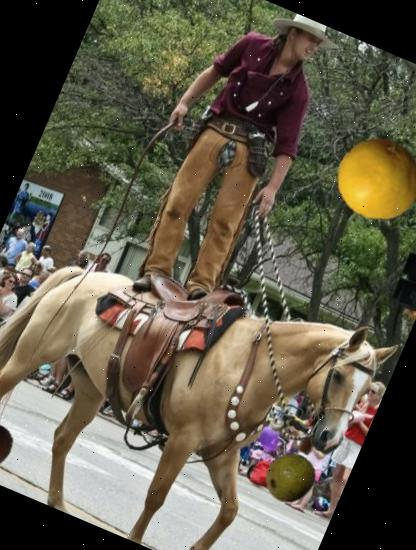Grapefruit: (324, 124, 416, 235)
Guava: (256, 444, 324, 512)
Nut: (0, 410, 21, 483)
